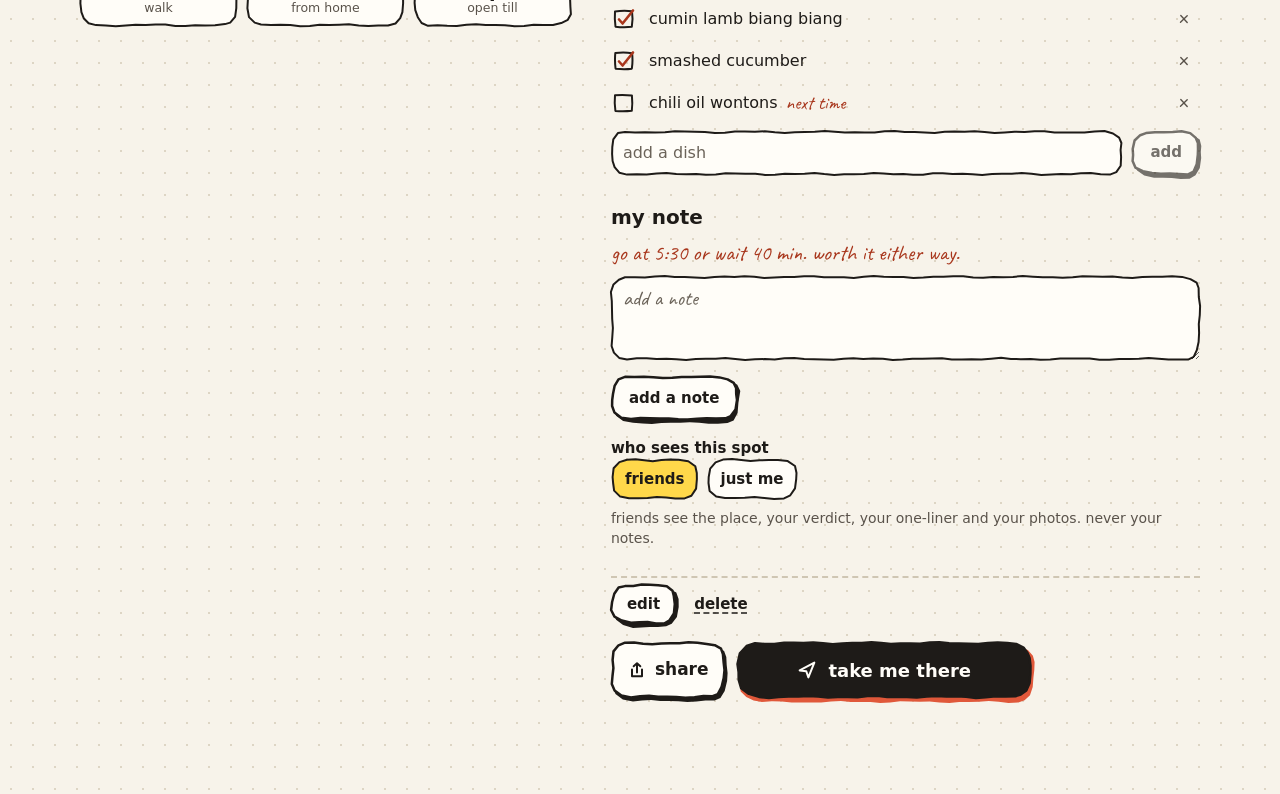
friends on cards and the place page › a spot can be made private ("just me") from its page
The width and height of the screenshot is (1280, 794).
(page scrolled)
Check: the radio button labelled "friends" is checked, box [611,459,698,499]
Click the radio button labelled "just me": (752, 479) [706,459,798,499]
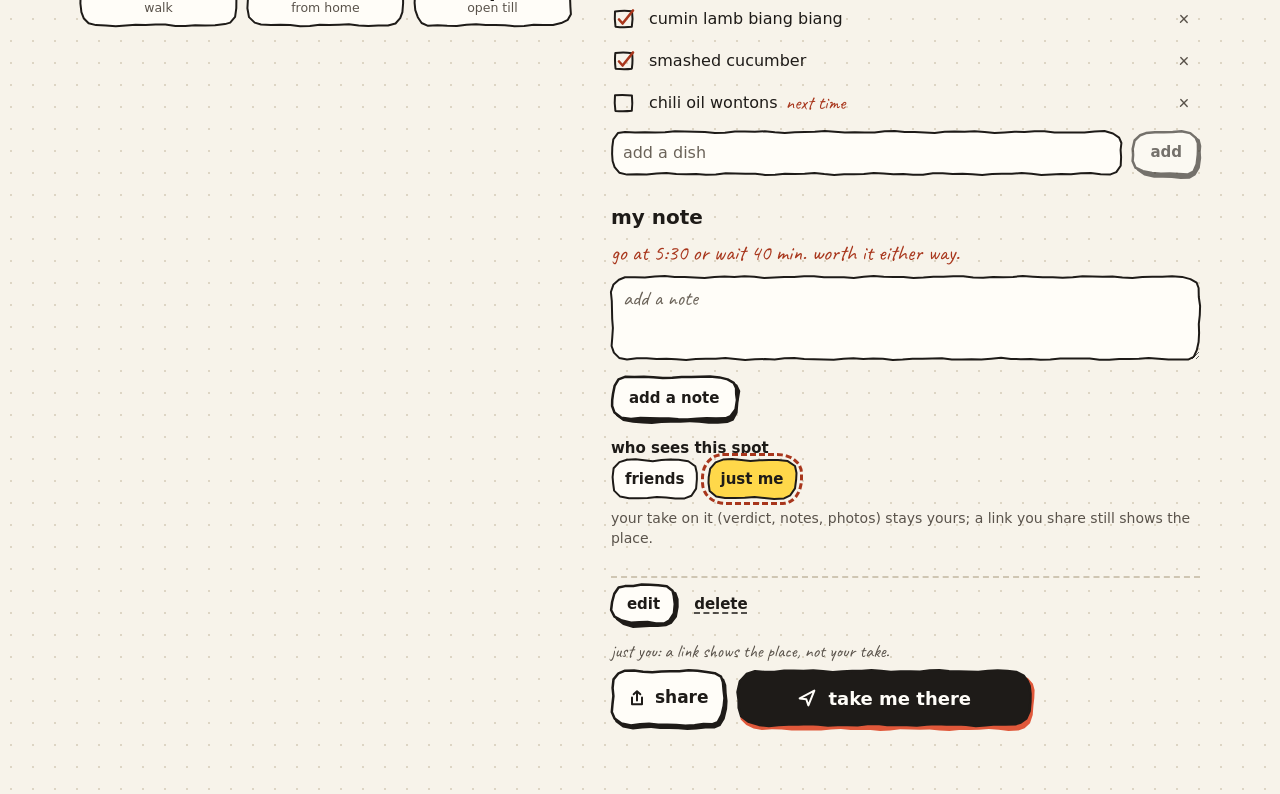
Check: the text "your take on it (verdict, notes, photos) stays yours; a link you share still shows the place." is shown, box [611,510,1190,546]
Check: the text "just you: a link shows the place, not your take." is shown, box [611,640,889,662]
Note: back to friends: the note goes
Click the radio button labelled "friends": (655, 479) [611,459,698,499]
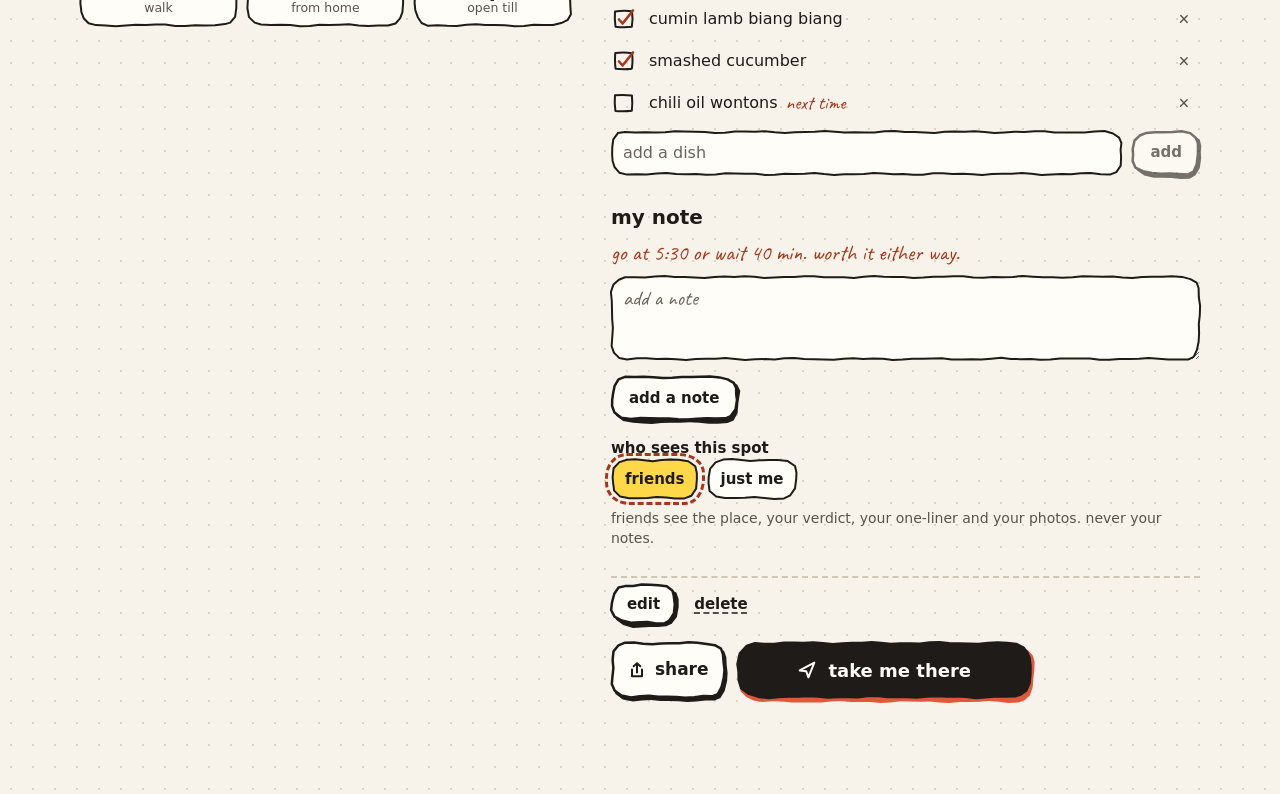
Check: the text "just you: a link shows the place" is gone
